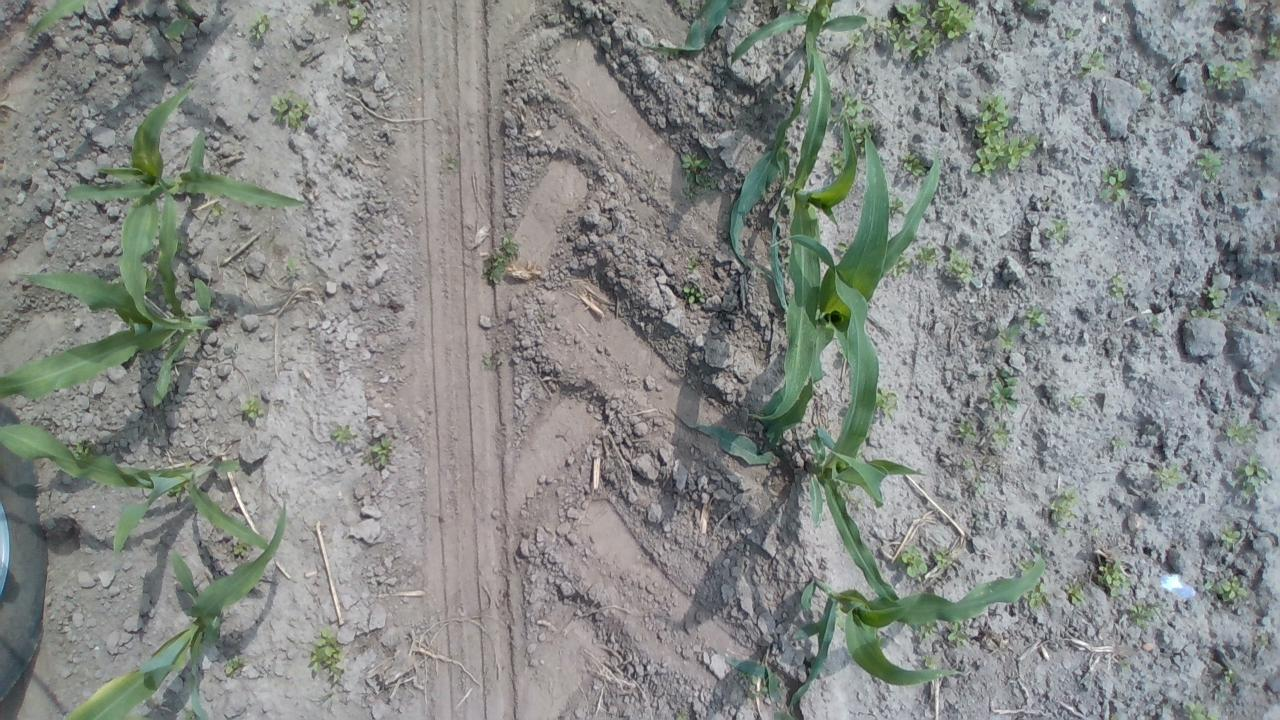Maize: (669, 130, 942, 468), (65, 82, 308, 332), (769, 235, 928, 598), (65, 500, 288, 720), (790, 532, 1049, 720), (746, 30, 860, 422), (729, 1, 868, 312), (0, 424, 272, 552), (0, 272, 216, 408), (724, 655, 796, 720), (644, 0, 732, 53), (30, 0, 86, 42), (164, 0, 203, 37)
Weeds: (868, 0, 978, 60), (970, 92, 1041, 182), (480, 234, 522, 286), (309, 626, 346, 682), (1206, 54, 1259, 93), (679, 151, 718, 201), (1232, 453, 1270, 503), (266, 88, 308, 130), (1097, 556, 1135, 600), (1048, 489, 1082, 535), (1204, 574, 1250, 606), (989, 364, 1019, 413), (1096, 162, 1128, 204), (1151, 460, 1188, 492), (942, 246, 972, 283), (832, 88, 864, 121), (898, 544, 928, 579), (1129, 597, 1161, 629), (1196, 147, 1222, 184), (1226, 414, 1258, 444), (362, 434, 389, 468), (247, 7, 272, 41), (1076, 49, 1106, 77), (1023, 581, 1053, 608), (932, 542, 958, 572), (876, 384, 898, 416), (682, 280, 708, 306), (911, 243, 940, 266), (240, 395, 265, 421), (1043, 218, 1069, 243), (1203, 282, 1228, 308), (1183, 703, 1220, 720), (329, 420, 354, 445), (900, 151, 926, 175), (998, 324, 1022, 350), (991, 419, 1011, 450), (945, 623, 970, 647), (1063, 581, 1087, 605), (850, 120, 874, 142), (346, 0, 364, 29), (224, 652, 243, 678), (1190, 307, 1225, 321), (956, 417, 978, 439), (1220, 524, 1240, 548), (918, 620, 938, 643), (1265, 28, 1280, 58), (1111, 272, 1127, 300), (1064, 390, 1088, 408), (1262, 302, 1280, 326), (1024, 306, 1045, 325), (748, 674, 766, 696), (829, 150, 844, 176), (892, 254, 909, 276), (74, 439, 98, 454), (480, 354, 502, 370), (285, 256, 299, 279), (785, 0, 812, 11), (1112, 435, 1129, 452), (921, 652, 940, 667), (888, 196, 903, 214), (314, 692, 334, 705), (1138, 80, 1154, 96), (684, 255, 701, 270), (1149, 313, 1163, 331), (1064, 26, 1082, 40), (830, 241, 849, 254), (971, 476, 984, 495), (1088, 523, 1100, 542), (445, 153, 458, 170), (847, 33, 864, 46), (210, 203, 225, 217), (232, 542, 247, 554), (674, 709, 690, 720), (314, 0, 338, 7), (1223, 666, 1233, 682), (1018, 560, 1033, 570), (1260, 632, 1270, 644), (1044, 196, 1054, 208), (972, 514, 983, 524), (963, 457, 973, 467), (856, 497, 864, 509), (1025, 0, 1035, 8), (738, 670, 746, 678)
